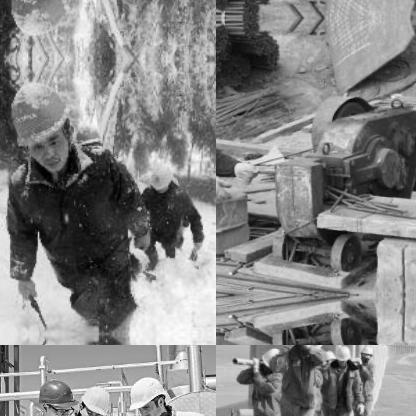Helmet: (3, 74, 70, 174), (3, 0, 73, 42), (30, 368, 80, 415), (125, 368, 170, 415), (72, 379, 114, 415), (76, 120, 102, 158), (149, 158, 175, 190), (257, 345, 283, 373), (330, 345, 350, 365), (356, 345, 376, 364), (297, 345, 328, 352)
